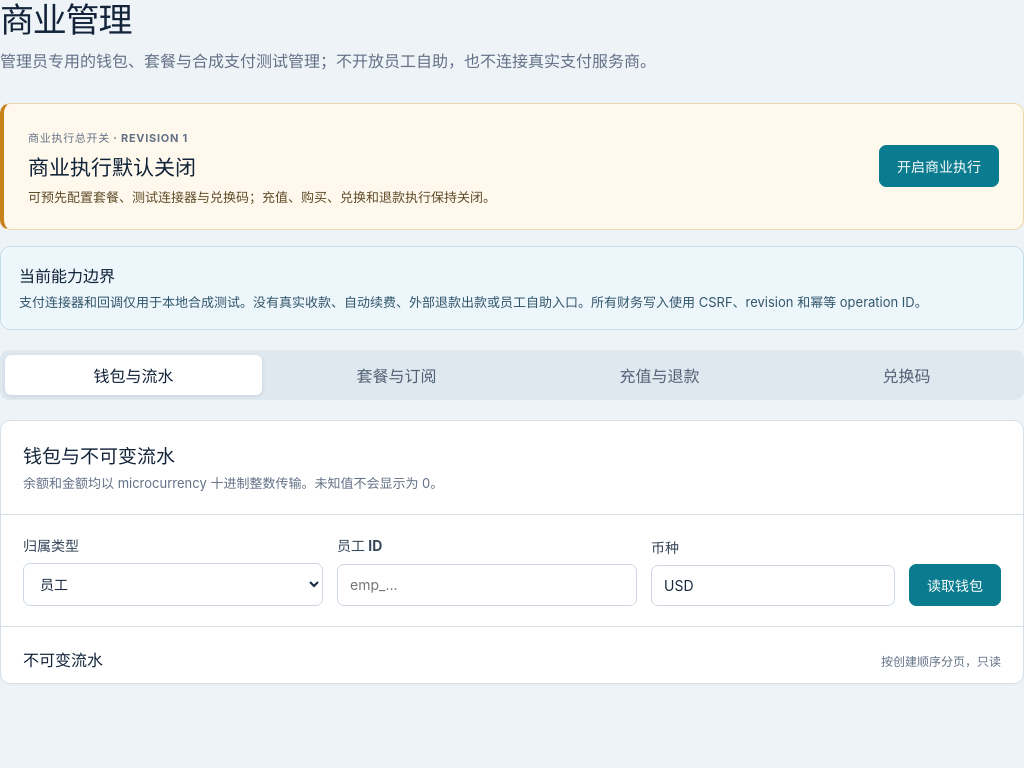
it: administrator commercial management › keeps a settings conflict visible and reloads the authoritative revision
Click the button "开启商业执行" at (939, 166), box [879, 145, 999, 187]
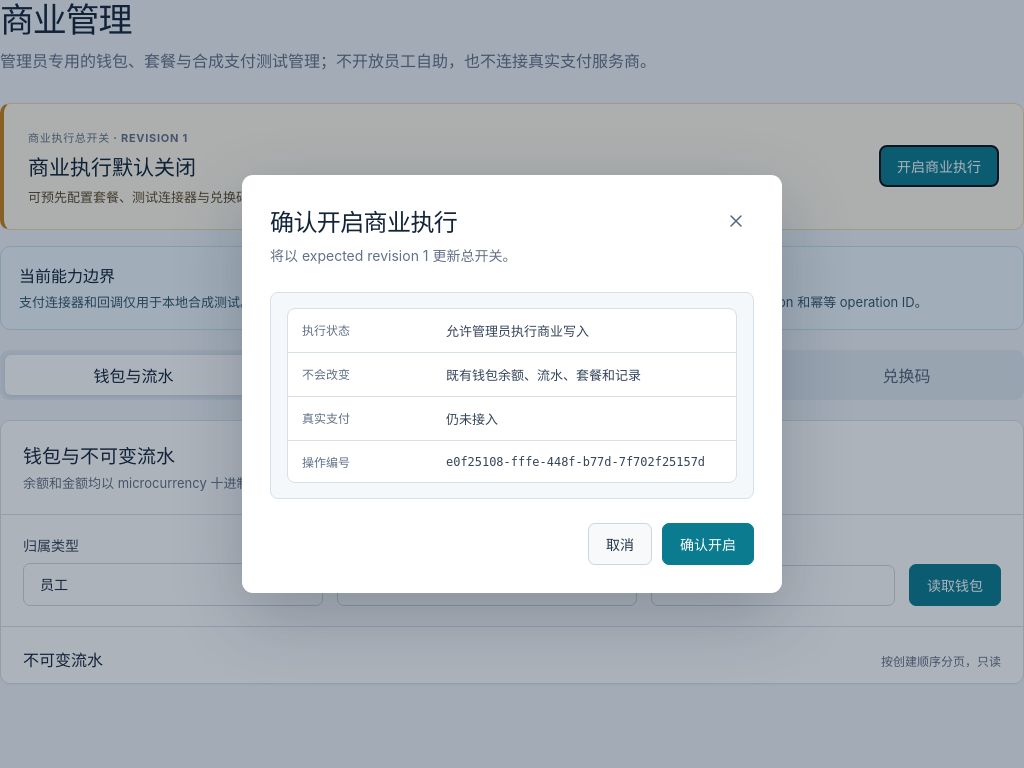
Click the button "确认开启" at (708, 544), box [662, 523, 754, 565]
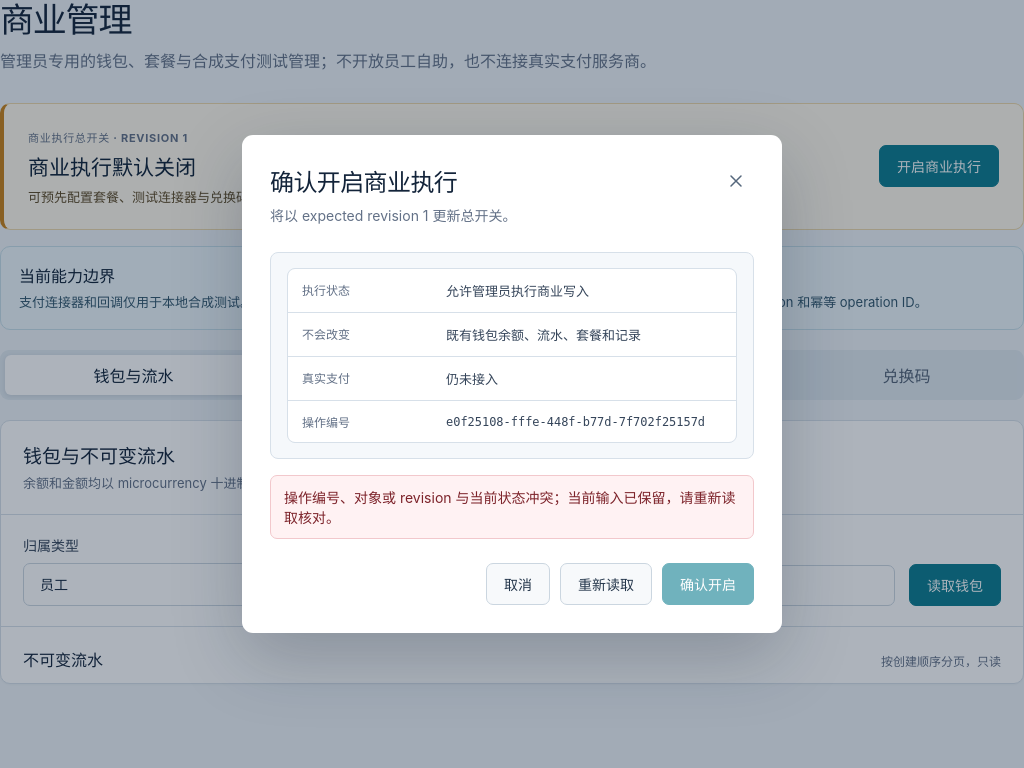
expect the text "操作编号" is shown: met, box [302, 415, 350, 430]
expect the message shows "revision 与当前状态冲突": met, box [284, 489, 736, 526]
Click the button "重新读取" at (606, 584), box [560, 563, 652, 605]
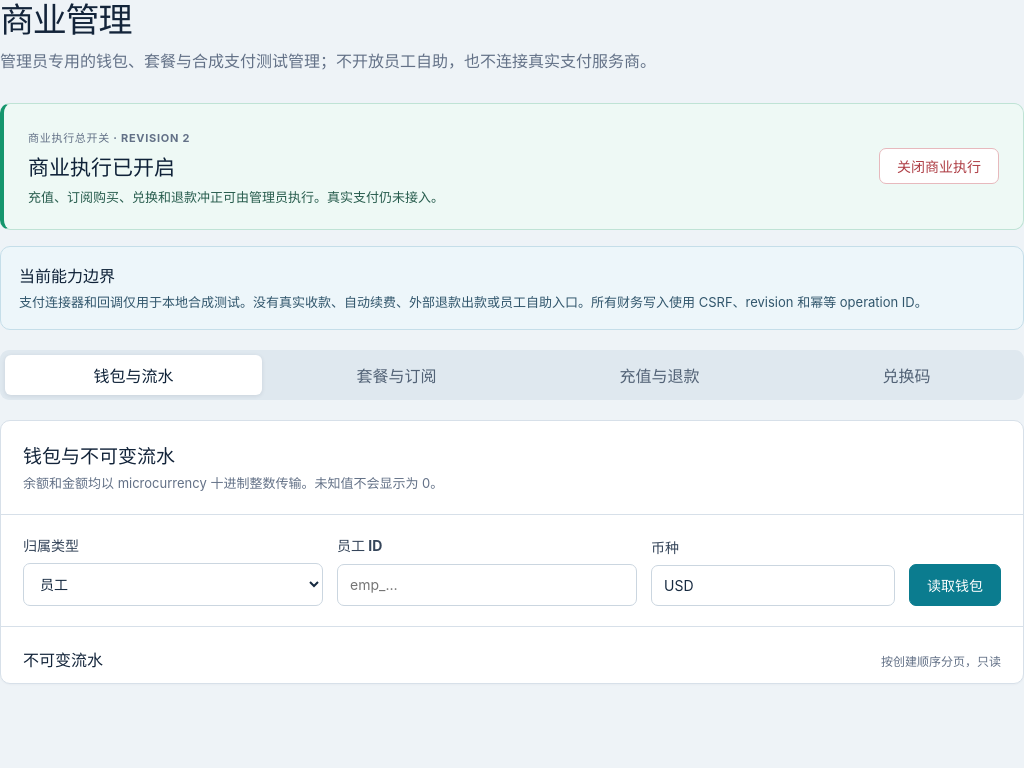
expect the heading "商业执行已开启" is shown: met, box [28, 154, 175, 180]
